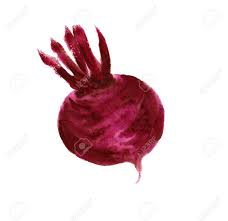beet: (38, 25, 165, 184)
